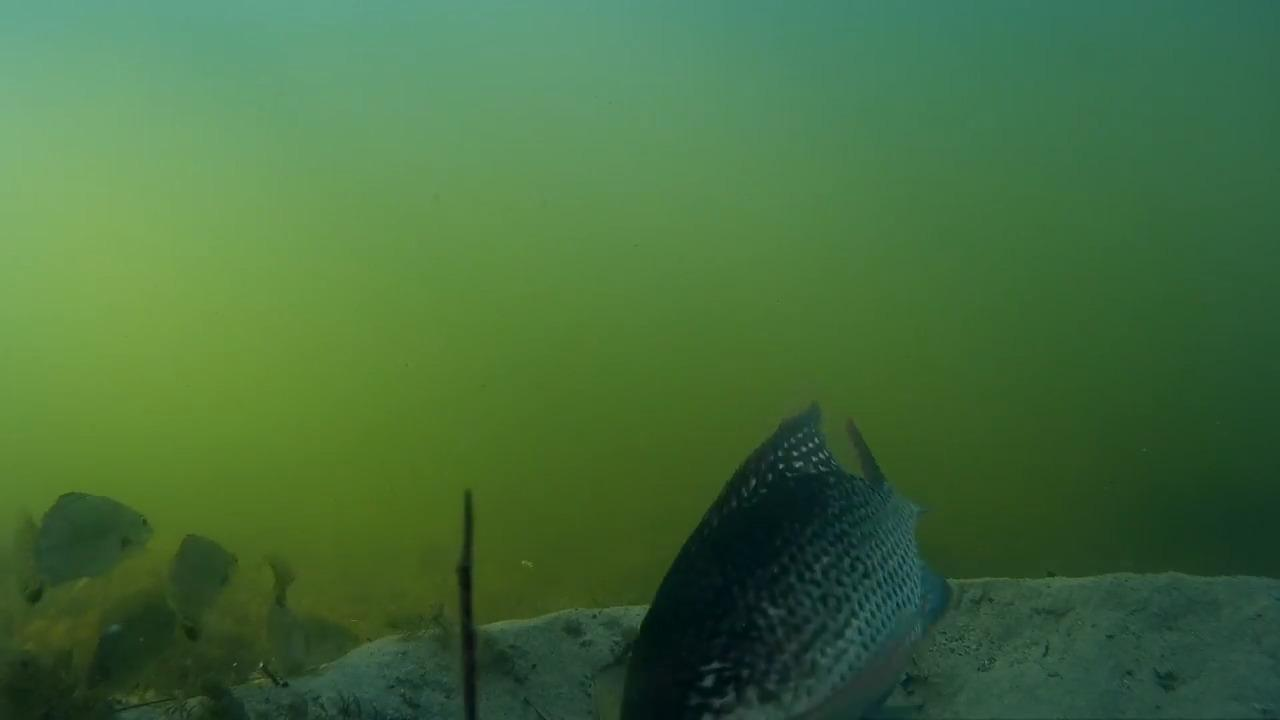Tilapia: (598, 395, 985, 720), (5, 489, 166, 614), (262, 568, 365, 680)
